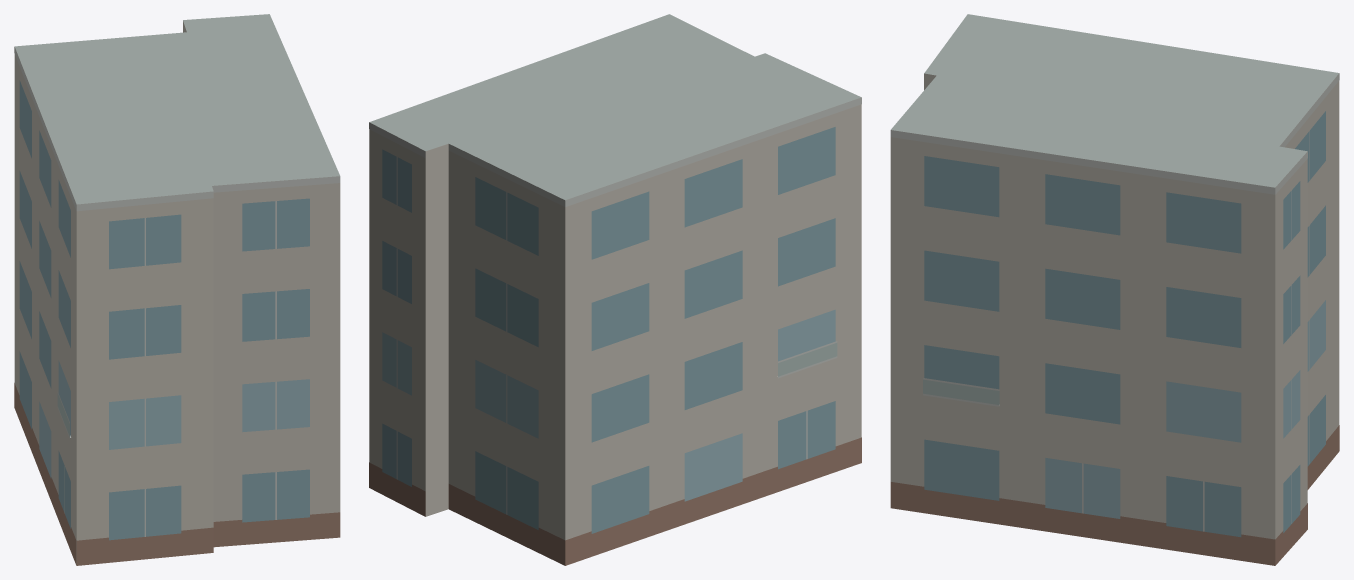
The model's file is survey-upis-32894358.glb.
3 renders of one model, left to right at view 1: azimuth 30°, elevation 25°; view 2: azimuth 150°, elevation 25°; view 3: azimuth 270°, elevation 25°, orthographic. The views are drawn at different scales.
Visible parts, largest first — view 1: survey-upis-32894358.tmp; view 2: survey-upis-32894358.tmp; view 3: survey-upis-32894358.tmp.
Part boxes in pixels (bbox=[...]): survey-upis-32894358.tmp: bbox=[14, 14, 340, 565]; survey-upis-32894358.tmp: bbox=[369, 14, 861, 565]; survey-upis-32894358.tmp: bbox=[890, 14, 1339, 565].
Bounding box in the file's own units: 12.71 × 12.9 × 13.89.
